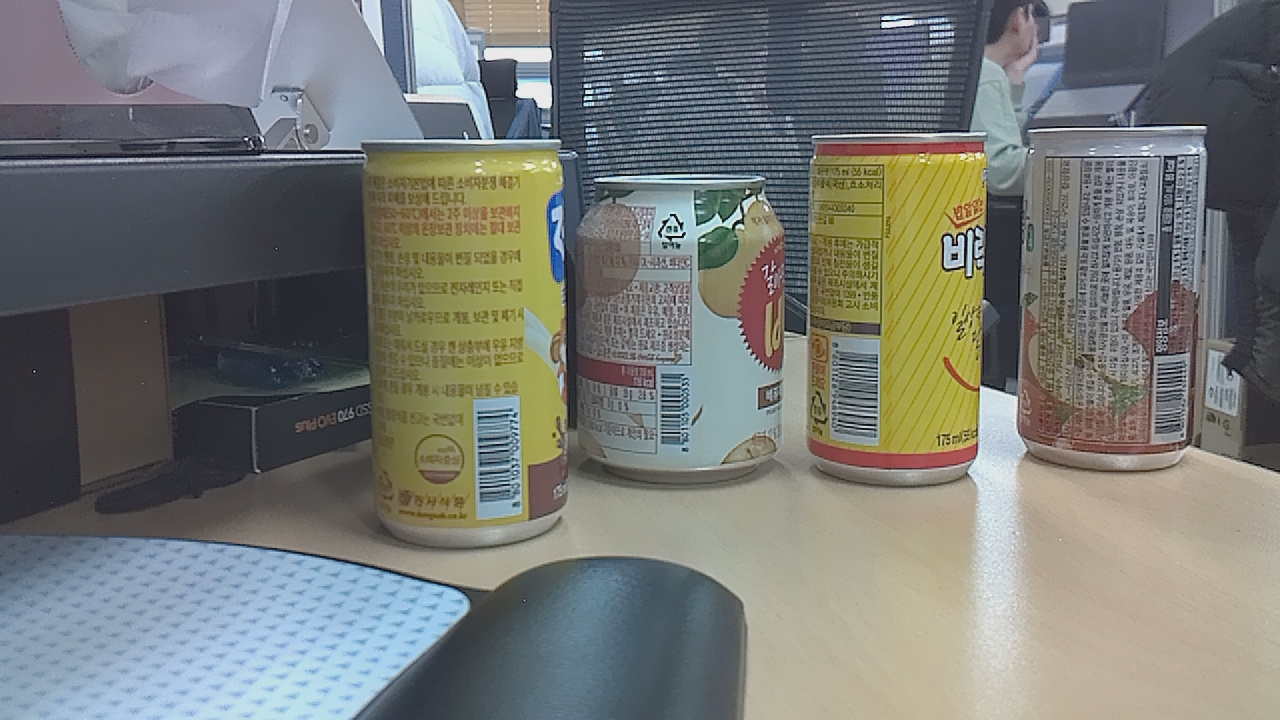IdH (pear juice): (584, 160, 787, 492)
jetty: (361, 134, 579, 567)
mylove apple: (1028, 125, 1238, 490)
paldo shikhye: (802, 143, 1009, 497)
